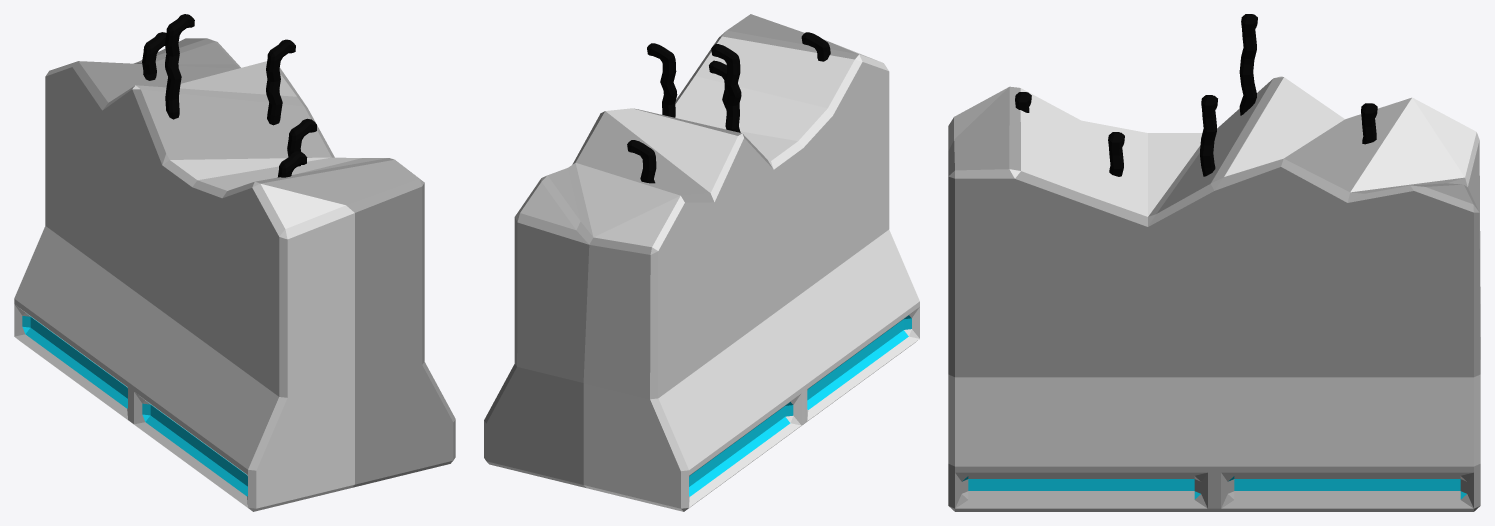
The model's file is WallBrokenBottom.fbx.
3 views of the same model, side by side, from view 1: azimuth 30°, elevation 25°; view 2: azimuth 150°, elevation 25°; view 3: azimuth 270°, elevation 25° (orthographic). The views are drawn at different scales.
Visible parts, largest first — view 1: WallBrokenBottom, MetalTubeTordu.009, MetalTubeTordu.010, MetalTubeTordu.007, MetalTubeTordu.012; view 2: WallBrokenBottom, MetalTubeTordu.009, MetalTubeTordu.010, MetalTubeTordu.007; view 3: WallBrokenBottom, MetalTubeTordu.009, MetalTubeTordu.010, MetalTubeTordu.012, MetalTubeTordu.007.
Part boxes in pixels (x1,y1,x2,y2): WallBrokenBottom: (14,38,455,511); MetalTubeTordu.009: (165,14,194,119); MetalTubeTordu.010: (266,39,295,125); MetalTubeTordu.007: (142,32,166,80); MetalTubeTordu.012: (287,118,316,166); WallBrokenBottom: (484,14,919,511); MetalTubeTordu.009: (711,44,741,132); MetalTubeTordu.010: (647,43,677,117); MetalTubeTordu.007: (627,140,656,183); WallBrokenBottom: (948,76,1480,511); MetalTubeTordu.009: (1239,14,1257,115); MetalTubeTordu.010: (1200,95,1217,176); MetalTubeTordu.012: (1108,132,1124,176); MetalTubeTordu.007: (1361,103,1377,144).
Size of the model in its own units: 200 by 352 by 400.
